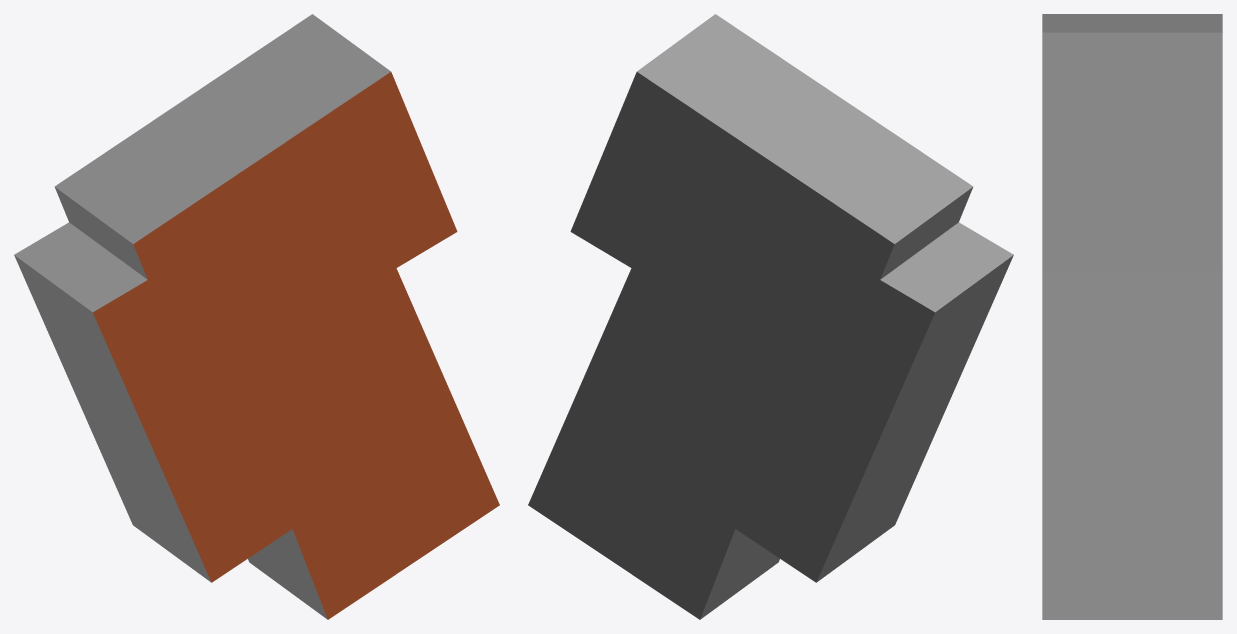
Rendered from construction_7005_assumed_A_Casa_h6m.obj.
3 renders of one model, left to right at view 1: azimuth 30°, elevation 25°; view 2: azimuth 150°, elevation 25°; view 3: azimuth 270°, elevation 25°, orthographic. The views are drawn at different scales.
Visible parts, largest first — view 1: construction_7005_assumed_A_Casa; view 2: construction_7005_assumed_A_Casa; view 3: construction_7005_assumed_A_Casa.
Boxes of the visible parts, bbox=[...] form: construction_7005_assumed_A_Casa: bbox=[14, 14, 499, 619]; construction_7005_assumed_A_Casa: bbox=[528, 14, 1013, 619]; construction_7005_assumed_A_Casa: bbox=[1042, 14, 1222, 619].
Size of the model in its own units: 17.92 by 22.4 by 6.
